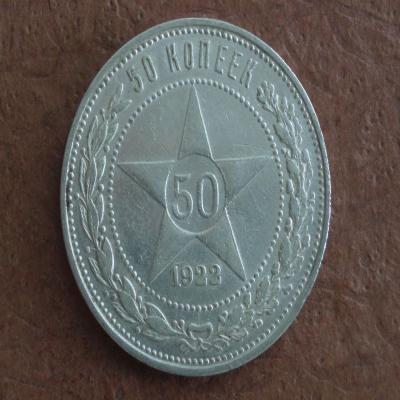numismatics: (58, 18, 332, 379)
